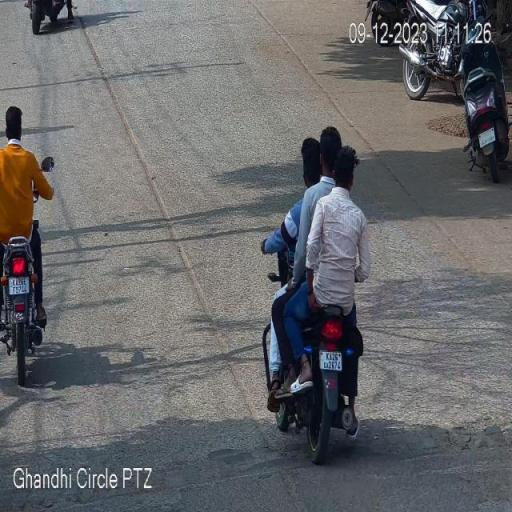tripple riding: (260, 123, 374, 318)
